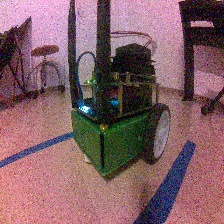rob: (69, 42, 171, 176)
